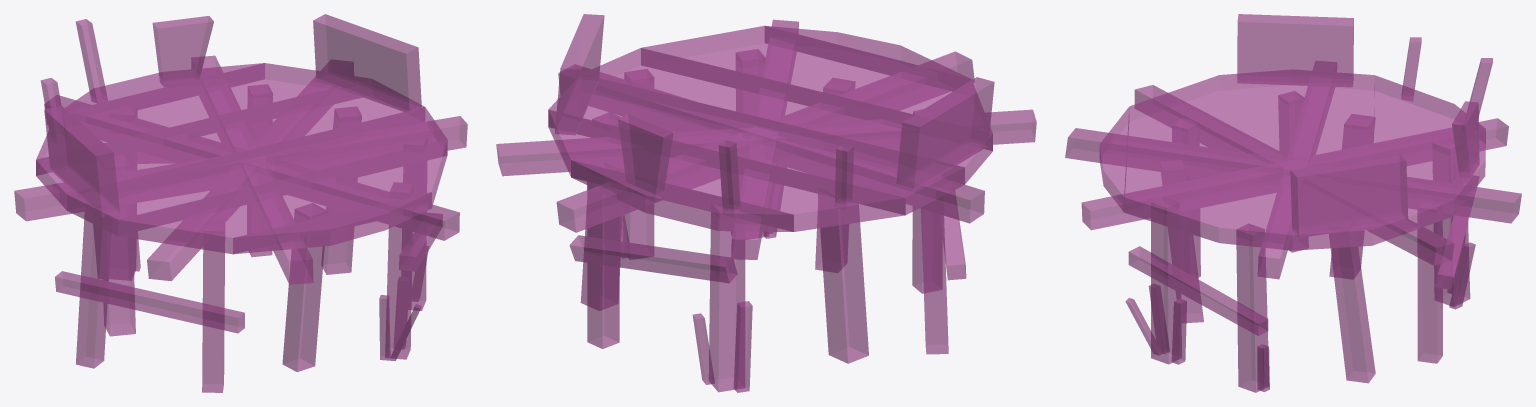
File: SM_Bld_Tent_Platform_01_Collision.fbx
3 renders of one model, left to right at view 1: azimuth 30°, elevation 25°; view 2: azimuth 150°, elevation 25°; view 3: azimuth 270°, elevation 25°, orthographic. The views are drawn at different scales.
Visible parts, largest first — view 1: SM_Bld_Tent_Platform_01_Collision; view 2: SM_Bld_Tent_Platform_01_Collision; view 3: SM_Bld_Tent_Platform_01_Collision.
Part boxes in pixels (bbox=[...]): SM_Bld_Tent_Platform_01_Collision: bbox=[14, 14, 467, 392]; SM_Bld_Tent_Platform_01_Collision: bbox=[496, 14, 1036, 392]; SM_Bld_Tent_Platform_01_Collision: bbox=[1065, 14, 1521, 392].
Size of the model in its own units: 743 by 413 by 742.
